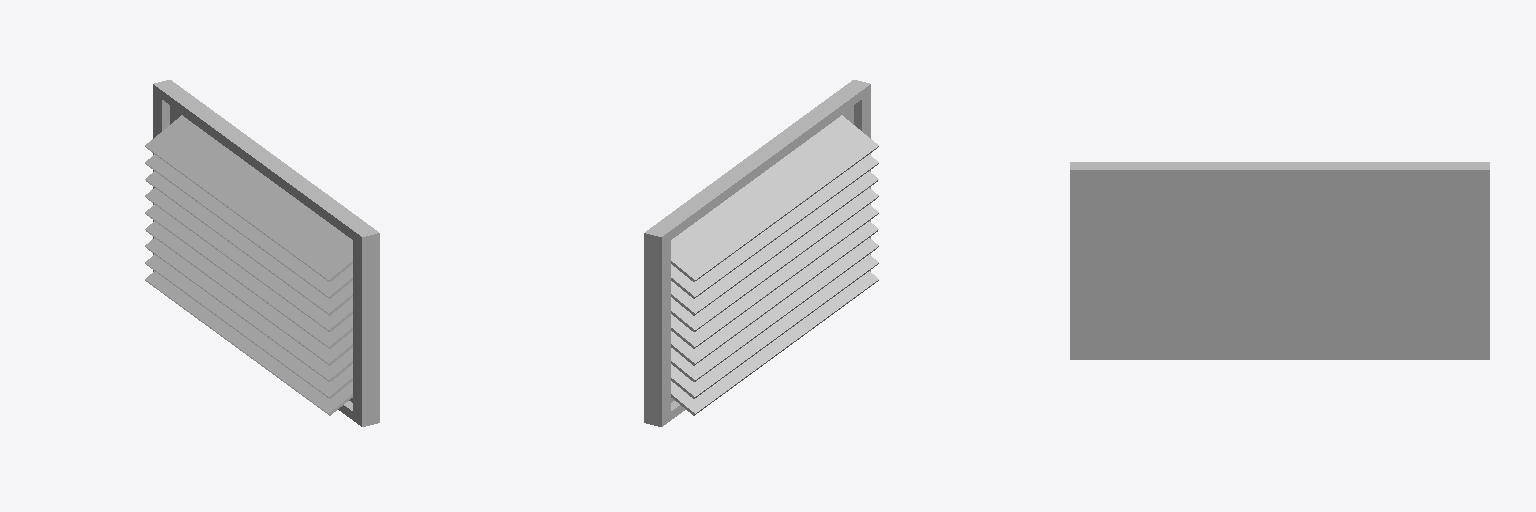
The model's file is New2_VentLarge.obj.
The picture shows the model from 3 angles: view 1: azimuth 30°, elevation 25°; view 2: azimuth 150°, elevation 25°; view 3: azimuth 270°, elevation 25°; orthographic projection.
Parts seen in each view (by area): view 1: Cube.002_Cube.009; view 2: Cube.002_Cube.009; view 3: Cube.002_Cube.009.
Part boxes in pixels (left/top/right/bottom): Cube.002_Cube.009: left=145, top=80, right=379, bottom=426; Cube.002_Cube.009: left=644, top=80, right=878, bottom=426; Cube.002_Cube.009: left=1070, top=162, right=1489, bottom=359.
Bounding box in the file's own units: 1.9 × 8.97 × 17.95.